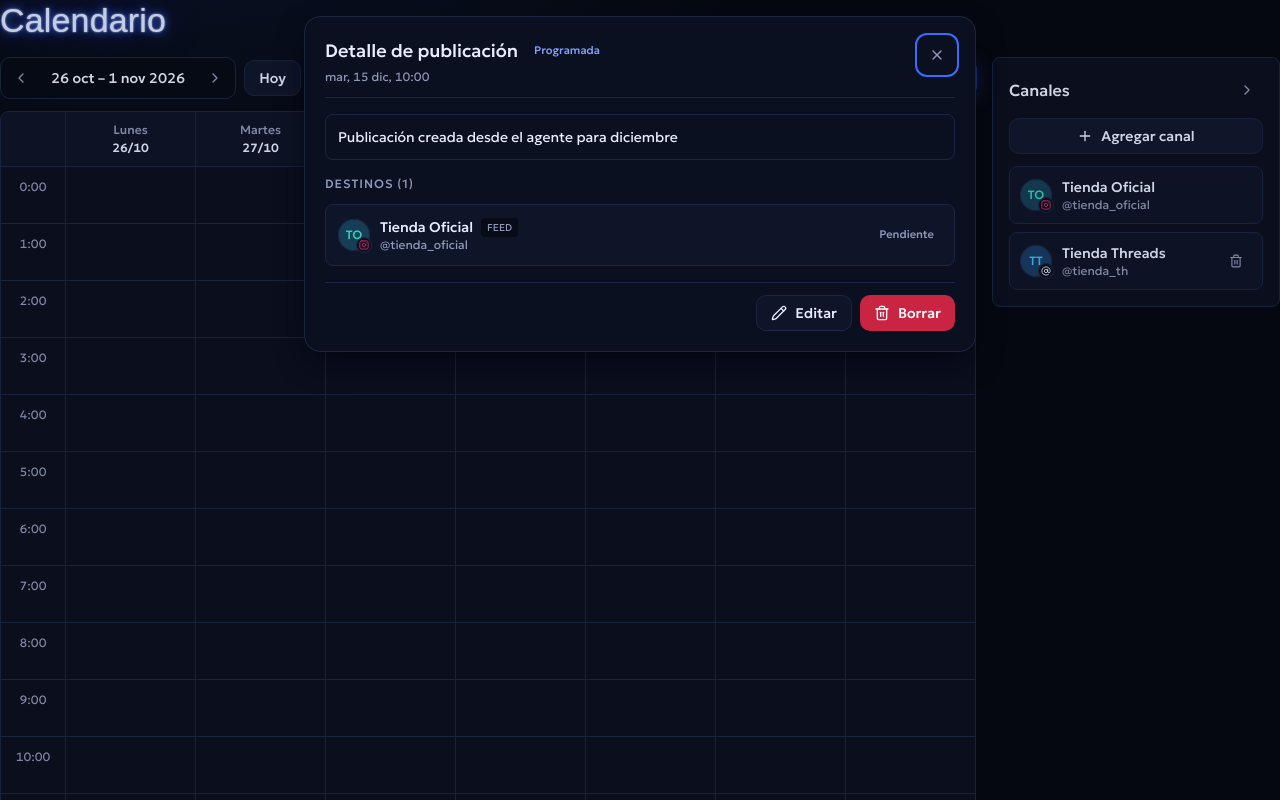
Test: CalendarView — abrir publicación desde ?publication= › pide la publicación con usePublication si no está en el rango cargado, abre el detalle y limpia la URL al cerrarlo
Expected: the text "Publicación creada desde el agente para diciembre" is shown, [338,128,678,146]
Click the button named "Cerrar diálogo".
click(937, 55)  # box [919,37,955,73]
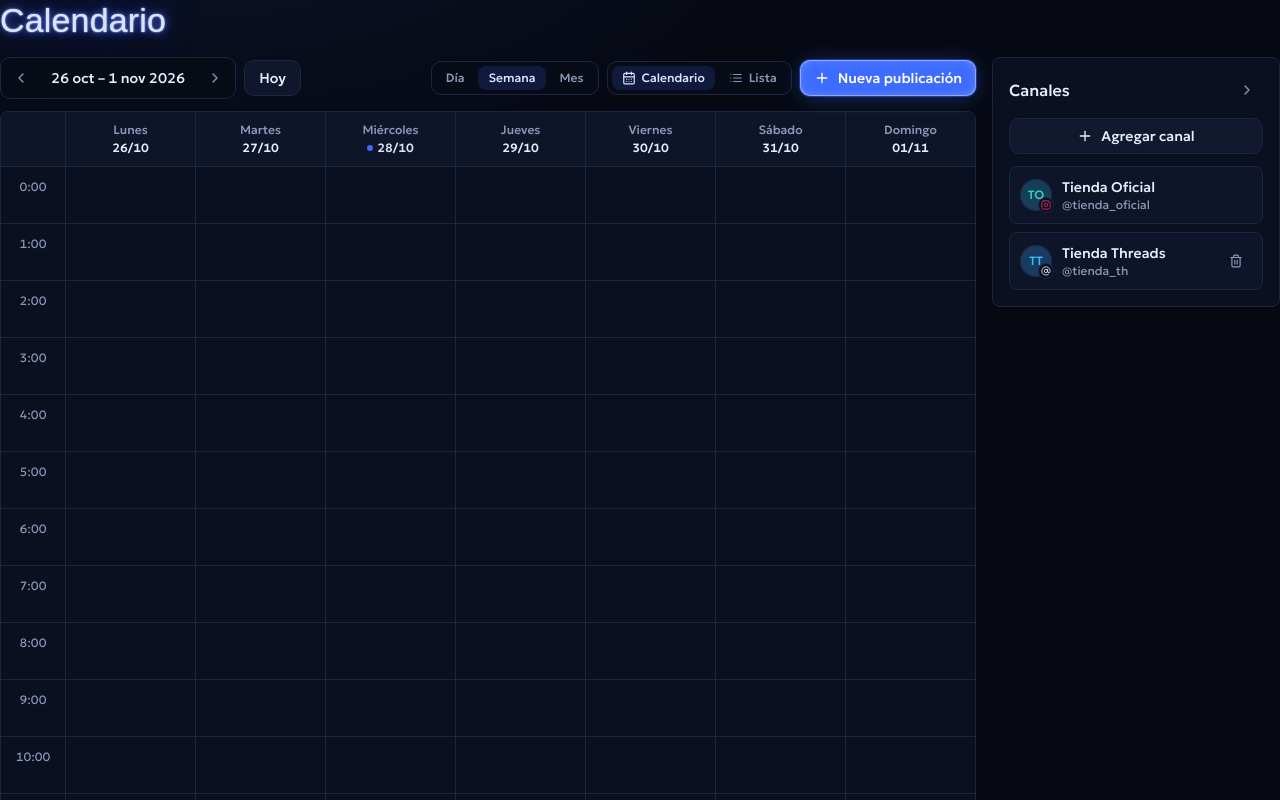
Expected: the heading "Detalle de publicación" is gone
